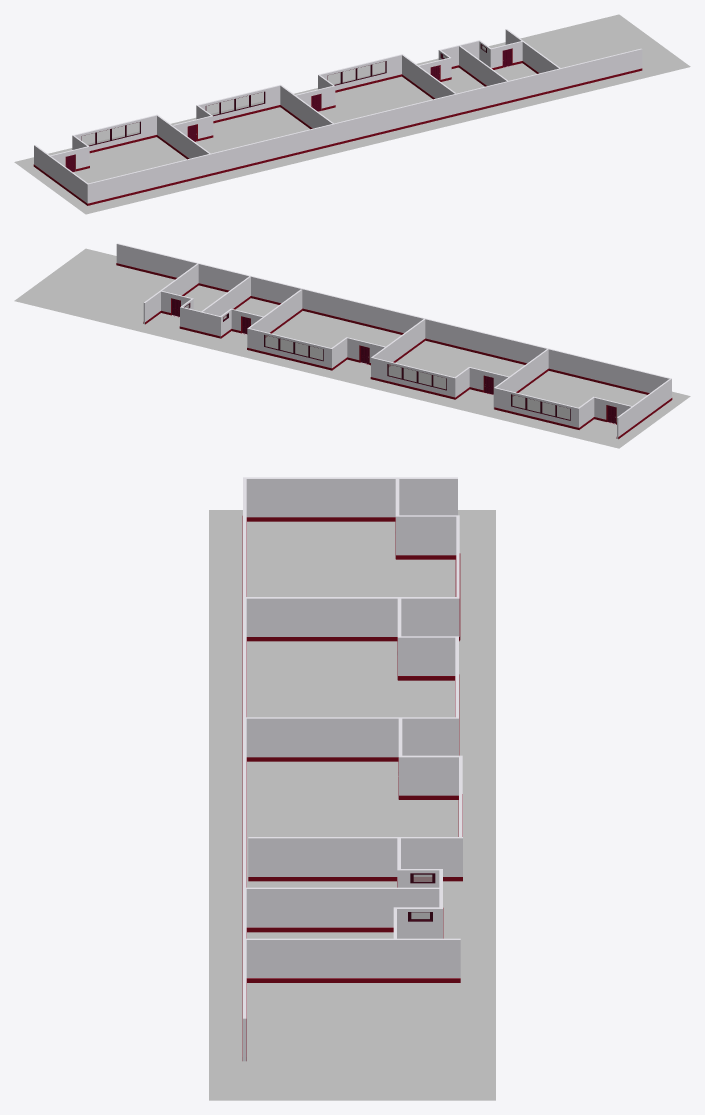
The picture shows the model from 3 angles, top to bottom: view 1: azimuth 30°, elevation 25°; view 2: azimuth 150°, elevation 25°; view 3: azimuth 270°, elevation 25°; orthographic projection. The views are drawn at different scales.
Visible parts, largest first — view 1: room_22_169, wall_1_6, wall_1_4, wall_6_46, wall_3_22, wall_2_14, wall_7_54, wall_8_62, wall_16_126, wall_19_150, wall_4_29, wall_5_37 (+9 smaller); view 2: room_22_169, wall_1_5, wall_1_3, wall_6_46, wall_16_125, wall_8_61, wall_19_149, wall_7_54, wall_3_22, wall_5_37, wall_2_14, wall_11_86 (+7 smaller); view 3: room_22_169, wall_5_38, wall_2_13, wall_7_53, wall_6_45, wall_3_21, wall_4_30, wall_9_70, wall_18_142, wall_15_118, wall_1_7, wall_12_94 (+2 smaller).
Boxes of the visible parts, <box> form: room_22_169: <box>14,14,690,214</box>; wall_1_6: <box>87,49,642,203</box>; wall_1_4: <box>87,68,642,205</box>; wall_6_46: <box>34,145,87,203</box>; wall_3_22: <box>402,55,454,98</box>; wall_2_14: <box>280,86,332,128</box>; wall_7_54: <box>157,116,208,158</box>; wall_8_62: <box>75,115,156,150</box>; wall_16_126: <box>199,86,280,120</box>; wall_19_150: <box>320,55,401,90</box>; wall_4_29: <box>459,46,506,85</box>; wall_5_37: <box>505,29,558,73</box>; room_22_169: <box>14,248,690,448</box>; wall_1_5: <box>116,244,669,392</box>; wall_1_3: <box>116,263,649,394</box>; wall_6_46: <box>617,379,671,438</box>; wall_16_125: <box>371,358,455,397</box>; wall_8_61: <box>495,388,578,427</box>; wall_19_149: <box>248,329,331,368</box>; wall_7_54: <box>494,349,548,406</box>; wall_3_22: <box>248,290,302,347</box>; wall_5_37: <box>144,264,198,324</box>; wall_2_14: <box>373,319,425,362</box>; wall_11_86: <box>180,307,219,335</box>; room_22_169: <box>209,510,495,1100</box>; wall_5_38: <box>246,940,460,978</box>; wall_2_13: <box>246,718,457,757</box>; wall_7_53: <box>246,598,459,636</box>; wall_6_45: <box>246,479,457,517</box>; wall_3_21: <box>248,838,462,876</box>; wall_4_30: <box>246,889,439,927</box>; wall_9_70: <box>396,516,456,555</box>; wall_18_142: <box>399,757,458,795</box>; wall_15_118: <box>398,637,455,675</box>; wall_1_7: <box>244,478,246,1018</box>; wall_12_94: <box>397,909,442,938</box>.
Bounding box in the file's own units: 2970 × 100 × 610.
